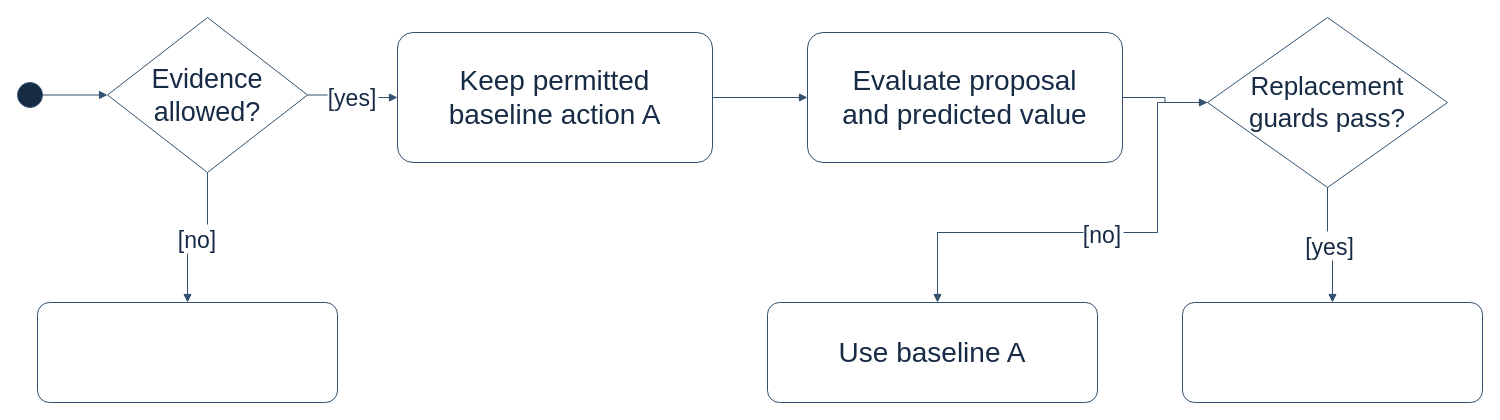
The diagram is 1500 pixels wide and 420 high, and some of its shapes have lost their labels. The shapes that lost their labels are listed below. From the top down, each one's centre as x and y in pixels, then its label:
(x=187, y=352): No action
(x=1332, y=352): Use proposal
